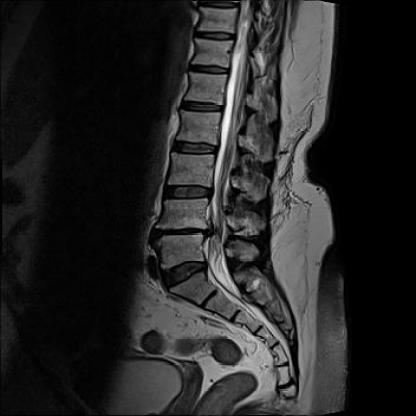Disc Bulgerotation: (160, 257, 217, 288)
Disc Herniationrotation: (146, 217, 217, 248)
